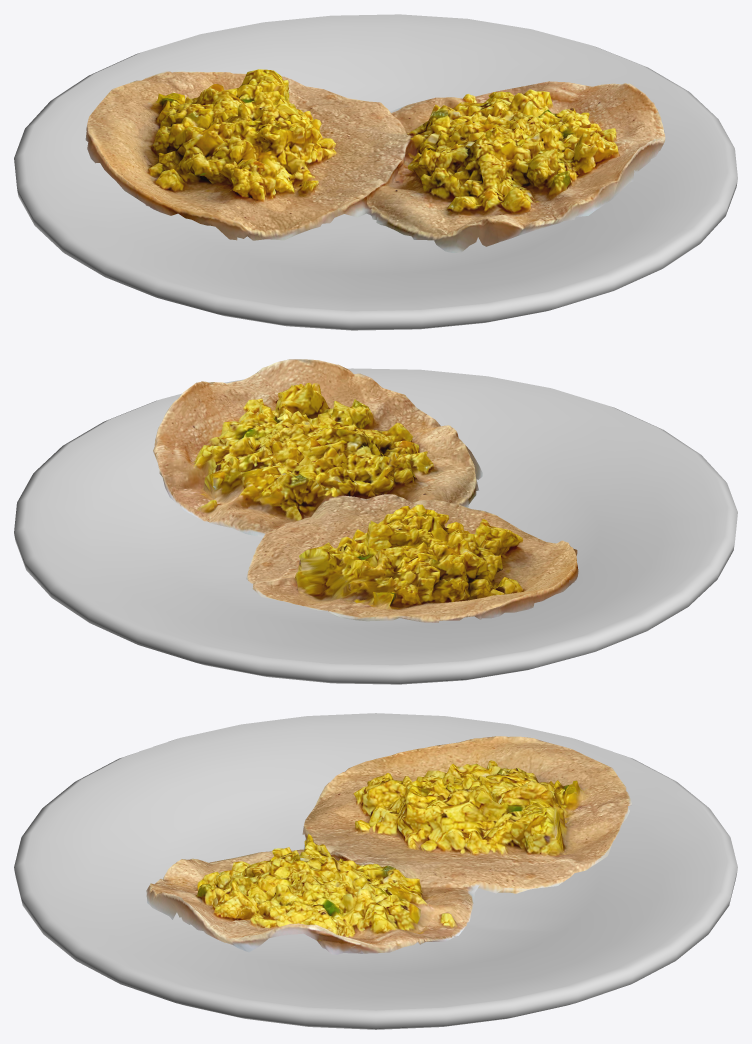
File: TACOSTOFU.glb
The picture shows the model from 3 angles, top to bottom: view 1: azimuth 30°, elevation 25°; view 2: azimuth 150°, elevation 25°; view 3: azimuth 270°, elevation 25°; orthographic projection.
Parts seen in each view (by area): view 1: Plate, TacosDeTofu; view 2: Plate, TacosDeTofu; view 3: Plate, TacosDeTofu.
Boxes of the visible parts, x1,y1,x2,y2 form: Plate: (14,14,737,330); TacosDeTofu: (85,69,665,252); Plate: (14,368,737,684); TacosDeTofu: (153,359,578,622); Plate: (14,713,737,1029); TacosDeTofu: (146,736,631,954).
Bounding box in the file's own units: 112 × 15.9 × 112.
Materials: 2 (1 with a texture image).
